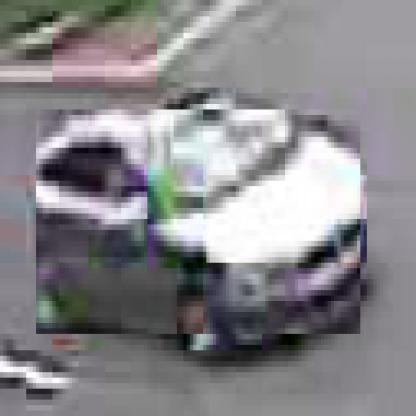car: (37, 111, 365, 341)
